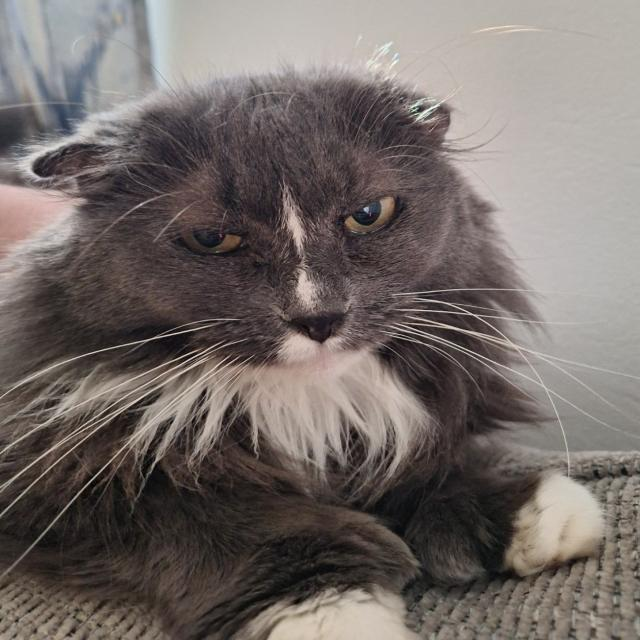maine_coon_cat: (27, 53, 531, 406)
